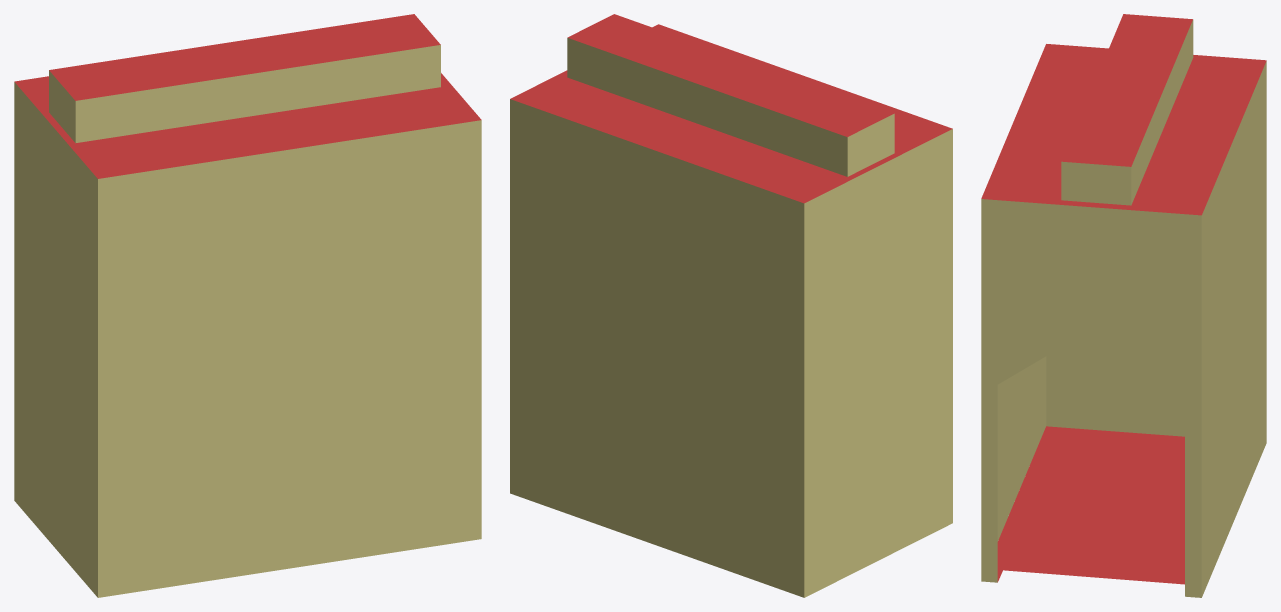
3 renders of one model, left to right at view 1: azimuth 30°, elevation 25°; view 2: azimuth 150°, elevation 25°; view 3: azimuth 270°, elevation 25°, orthographic. The views are drawn at different scales.
Visible parts, largest first — view 1: group_6, group_5, group_3, group_4; view 2: group_6, group_3, group_5, group_4; view 3: group_6, group_7, group_3, group_4, group_5.
Part boxes in pixels (bbox=[...]): group_6: bbox=[14, 82, 481, 597]; group_5: bbox=[49, 45, 440, 143]; group_3: bbox=[14, 73, 481, 178]; group_4: bbox=[49, 14, 440, 100]; group_6: bbox=[510, 99, 952, 597]; group_3: bbox=[510, 24, 952, 203]; group_5: bbox=[567, 38, 894, 176]; group_4: bbox=[567, 14, 893, 136]; group_6: bbox=[981, 61, 1266, 597]; group_7: bbox=[997, 426, 1184, 584]; group_3: bbox=[981, 44, 1266, 215]; group_4: bbox=[1061, 14, 1192, 166]; group_5: bbox=[1061, 19, 1193, 205].
Bounding box in the file's own units: 24.29 × 17.08 × 27.78.
